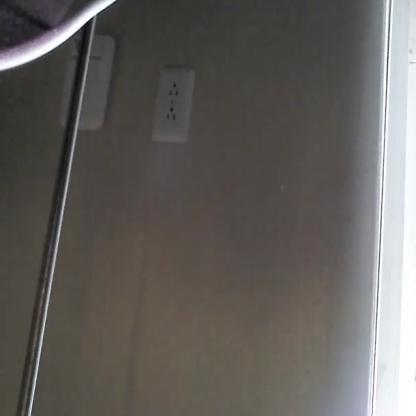OUTLET: (152, 71, 192, 144)
